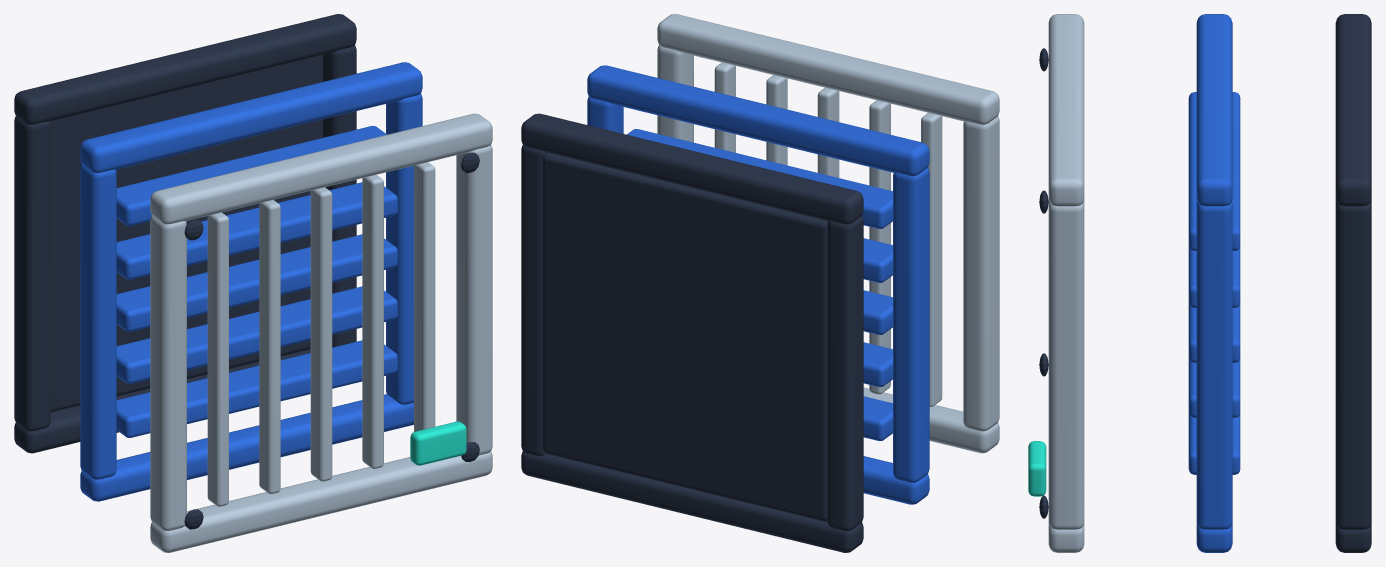
The model's file is ecobox-assembly.glb.
The picture shows the model from 3 angles, left to right: view 1: azimuth 30°, elevation 25°; view 2: azimuth 150°, elevation 25°; view 3: azimuth 270°, elevation 25°; orthographic projection. The views are drawn at different scales.
Visible parts, largest first — view 1: SM_Rear_panel, SM_Cassette_0_top, SM_Cassette_2_top, SM_Cassette_1_top, SM_Cassette_0_side_-0.83, SM_Cassette_1_side_-0.83, SM_Cassette_2_side_-0.83, SM_Cassette_2_base, SM_Cassette_2_side_0.83, SM_Cassette_1_base, SM_Front_rib_0, SM_Cassette_1_side_0.83 (+12 smaller); view 2: SM_Rear_panel, SM_Cassette_0_top, SM_Cassette_2_top, SM_Cassette_1_top, SM_Cassette_2_side_-0.83, SM_Cassette_0_side_-0.83, SM_Cassette_1_side_-0.83, SM_Cassette_0_base, SM_Cassette_0_side_0.83, SM_Front_rib_-0.56, SM_Cooling_fin_0.55, SM_Cassette_2_base (+11 smaller); view 3: SM_Cassette_2_side_0.83, SM_Cassette_1_side_0.83, SM_Cassette_0_side_0.83, SM_Cassette_2_top, SM_Cassette_1_top, SM_Cassette_0_top, SM_Cooling_fin_0.55, SM_Cooling_fin_0.27, SM_Cooling_fin_-0.55, SM_Identity_tab, SM_Cooling_fin_-0.27, SM_Cooling_fin_0 (+3 smaller).
Part boxes in pixels (x1,y1,x2,y2): SM_Rear_panel: (50,55,322,412); SM_Cassette_0_top: (14,14,356,124); SM_Cassette_2_top: (150,113,492,224); SM_Cassette_1_top: (80,62,422,172); SM_Cassette_0_side_-0.83: (14,116,50,431); SM_Cassette_1_side_-0.83: (80,164,116,479); SM_Cassette_2_side_-0.83: (150,216,186,530); SM_Cassette_2_base: (150,451,492,552); SM_Cassette_2_side_0.83: (456,145,492,455); SM_Cassette_1_base: (80,394,413,501); SM_Front_rib_0: (310,187,332,481); SM_Cassette_1_side_0.83: (386,93,422,404); SM_Rear_panel: (542,153,827,521); SM_Cassette_0_top: (521,113,863,224); SM_Cassette_2_top: (657,14,999,124); SM_Cassette_1_top: (587,65,929,176); SM_Cassette_2_side_-0.83: (963,116,999,431); SM_Cassette_0_side_-0.83: (827,216,863,530); SM_Cassette_1_side_-0.83: (893,167,929,482); SM_Cassette_0_base: (521,451,863,552); SM_Cassette_0_side_0.83: (521,145,547,455); SM_Front_rib_-0.56: (921,113,942,406); SM_Cooling_fin_0.55: (627,129,892,228); SM_Cassette_2_base: (863,387,999,453); SM_Cassette_2_side_0.83: (1048,201,1084,529); SM_Cassette_1_side_0.83: (1196,201,1232,529); SM_Cassette_0_side_0.83: (1335,201,1371,529); SM_Cassette_2_top: (1048,14,1084,206); SM_Cassette_1_top: (1196,14,1232,206); SM_Cassette_0_top: (1335,14,1371,206); SM_Cooling_fin_0.55: (1188,92,1240,250); SM_Cooling_fin_0.27: (1188,246,1240,307); SM_Cooling_fin_-0.55: (1188,413,1240,474); SM_Identity_tab: (1028,441,1046,496); SM_Cooling_fin_-0.27: (1188,358,1240,417); SM_Cooling_fin_0: (1188,303,1240,362).
Size of the model in its own units: 1.8 by 1.84 by 1.53.
